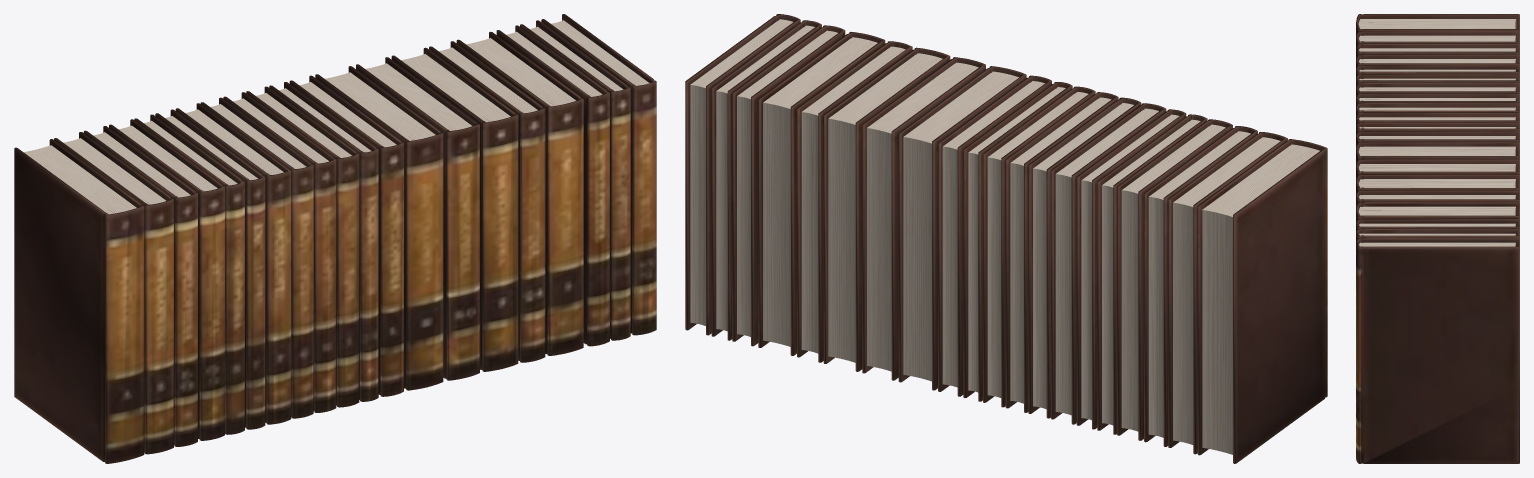
File: book_encyclopedia_set_01.glb
3 renders of one model, left to right at view 1: azimuth 30°, elevation 25°; view 2: azimuth 150°, elevation 25°; view 3: azimuth 270°, elevation 25°, orthographic. The views are drawn at different scales.
Parts seen in each view (by area): view 1: book_encyclopedia_set_01_book01; view 2: book_encyclopedia_set_01_book01; view 3: book_encyclopedia_set_01_book01.
Part boxes in pixels (x1=…): book_encyclopedia_set_01_book01: x1=14, y1=14, x2=656, y2=463; book_encyclopedia_set_01_book01: x1=685, y1=14, x2=1327, y2=463; book_encyclopedia_set_01_book01: x1=1356, y1=14, x2=1519, y2=463.
Size of the model in its own units: 0.5513 by 0.2374 by 0.1631.
Materials: 2 (2 with a texture image).
